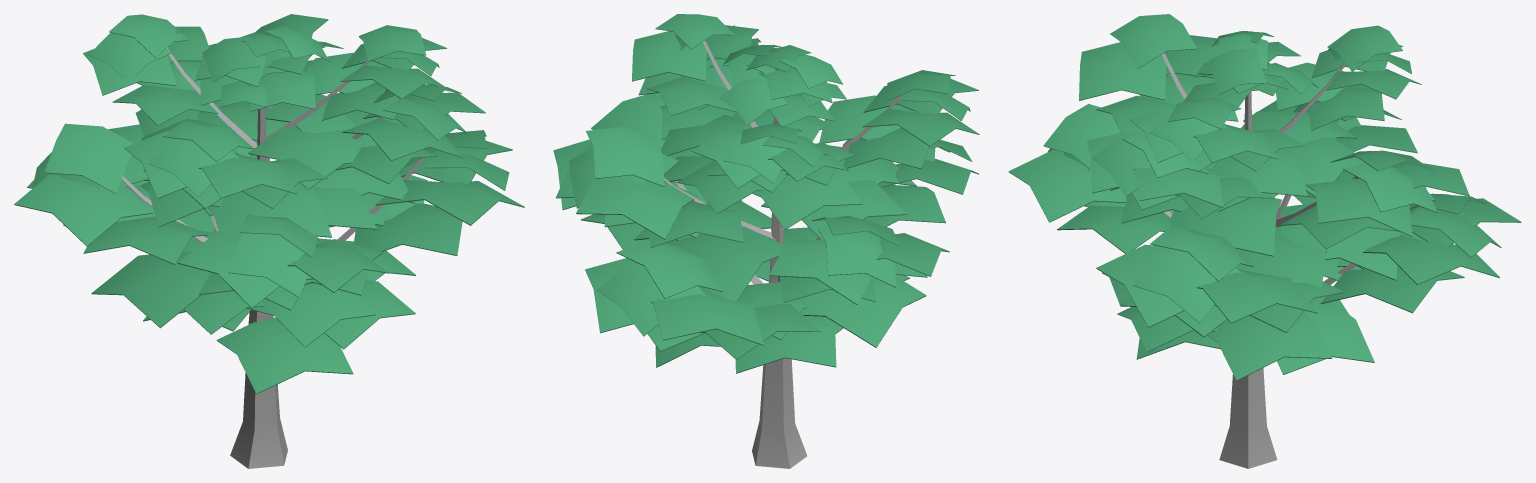
Rendered from leafy tree.fbx.
The picture shows the model from 3 angles, left to right: view 1: azimuth 30°, elevation 25°; view 2: azimuth 150°, elevation 25°; view 3: azimuth 270°, elevation 25°; orthographic projection. The views are drawn at different scales.
Parts seen in each view (by area): view 1: polySurface4234, polySurface4182, polySurface4184, polySurface4119, polySurface4188, polySurface4207, polySurface4220, polySurface4153, polySurface4229, polySurface4223, polySurface4183, polySurface4208 (+49 smaller); view 2: polySurface4119, polySurface4184, polySurface4200, polySurface4191, polySurface4202, polySurface4206, polySurface4197, polySurface4166, polySurface4193, polySurface4181, polySurface4159, polySurface4196 (+48 smaller); view 3: polySurface4211, polySurface4119, polySurface4218, polySurface4227, polySurface4175, polySurface4209, polySurface4214, polySurface4190, polySurface4199, polySurface4202, polySurface4189, polySurface4195 (+44 smaller).
Boxes of the visible parts, bbox=[...] form: polySurface4234: bbox=[216, 317, 353, 394]; polySurface4182: bbox=[14, 174, 152, 246]; polySurface4184: bbox=[91, 251, 210, 328]; polySurface4119: bbox=[230, 108, 287, 468]; polySurface4188: bbox=[44, 123, 133, 193]; polySurface4207: bbox=[353, 203, 462, 255]; polySurface4220: bbox=[247, 283, 375, 347]; polySurface4153: bbox=[248, 126, 366, 189]; polySurface4229: bbox=[208, 182, 331, 237]; polySurface4223: bbox=[228, 233, 307, 297]; polySurface4183: bbox=[83, 216, 207, 264]; polySurface4208: bbox=[375, 180, 524, 225]; polySurface4119: bbox=[752, 68, 807, 468]; polySurface4184: bbox=[795, 276, 926, 347]; polySurface4200: bbox=[576, 179, 693, 239]; polySurface4191: bbox=[650, 286, 763, 345]; polySurface4202: bbox=[666, 226, 784, 301]; polySurface4206: bbox=[586, 127, 664, 186]; polySurface4197: bbox=[616, 239, 722, 298]; polySurface4166: bbox=[752, 170, 862, 229]; polySurface4193: bbox=[735, 315, 836, 373]; polySurface4181: bbox=[769, 239, 872, 304]; polySurface4159: bbox=[632, 31, 707, 81]; polySurface4196: bbox=[596, 261, 705, 336]; polySurface4211: bbox=[1207, 312, 1332, 380]; polySurface4119: bbox=[1219, 91, 1277, 468]; polySurface4218: bbox=[1008, 149, 1126, 222]; polySurface4227: bbox=[1079, 42, 1167, 100]; polySurface4175: bbox=[1170, 197, 1281, 256]; polySurface4209: bbox=[1196, 268, 1317, 323]; polySurface4214: bbox=[1132, 247, 1241, 323]; polySurface4190: bbox=[1363, 234, 1499, 284]; polySurface4199: bbox=[1306, 178, 1412, 236]; polySurface4202: bbox=[1280, 203, 1399, 280]; polySurface4189: bbox=[1320, 265, 1464, 313]; polySurface4195: bbox=[1277, 299, 1374, 374].
Size of the model in its own units: 5.8 by 5.24 by 5.89.
